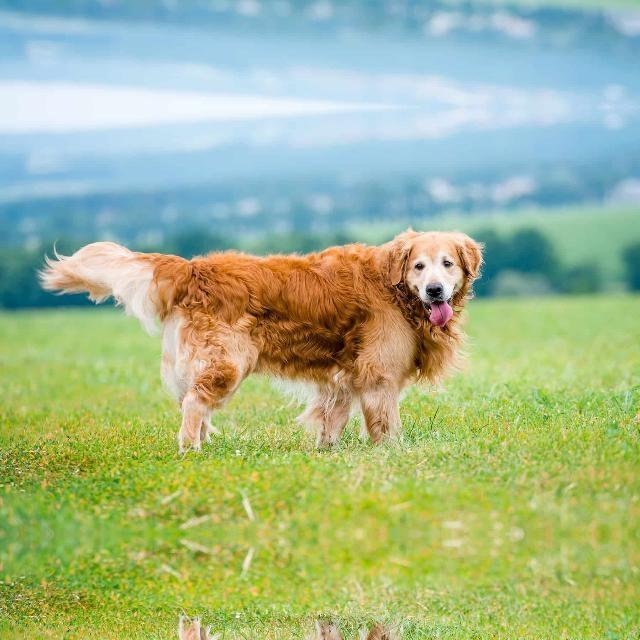dog: (89, 197, 521, 447), (89, 620, 521, 640), (89, 0, 521, 15)
